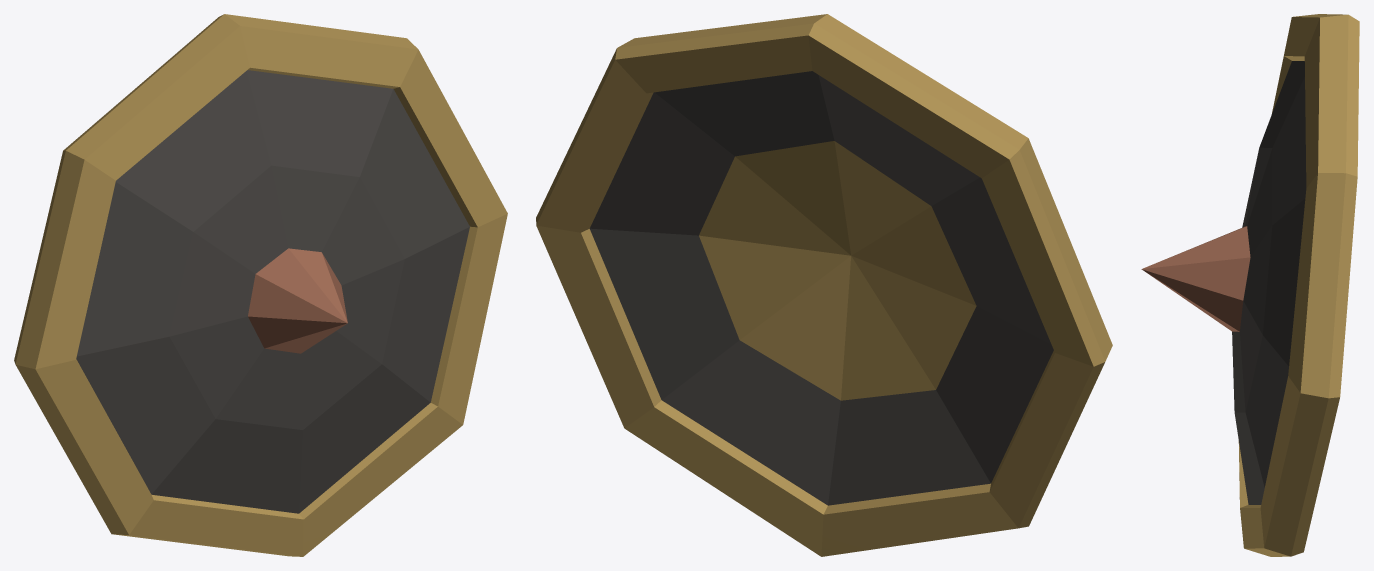
File: skelly02shield.fbx
3 views of the same model, side by side, from view 1: azimuth 30°, elevation 25°; view 2: azimuth 150°, elevation 25°; view 3: azimuth 270°, elevation 25° (orthographic). The views are drawn at different scales.
Parts seen in each view (by area): view 1: skelly02shield; view 2: skelly02shield; view 3: skelly02shield.
Part boxes in pixels (x1=…): skelly02shield: x1=14, y1=14, x2=507, y2=556; skelly02shield: x1=536, y1=14, x2=1112, y2=556; skelly02shield: x1=1141, y1=14, x2=1359, y2=556.
Bounding box in the file's own units: 0.9098 × 0.9034 × 0.3378.
1 material, 1 textured.
